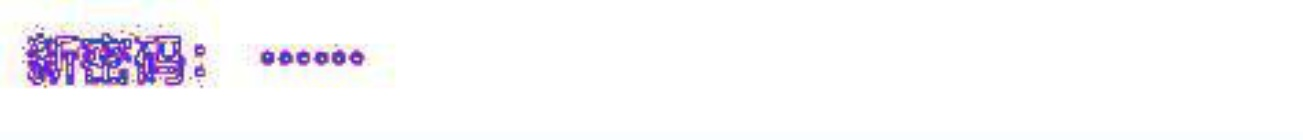EditText: (1, 1, 1302, 139)
